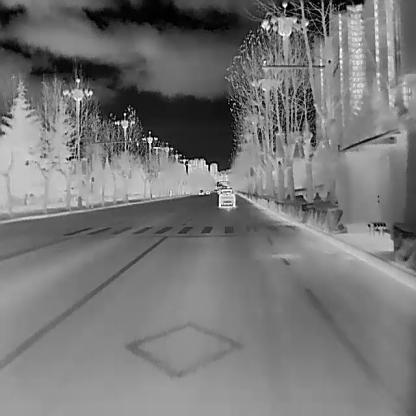car: (218, 189, 235, 207), (198, 189, 203, 195), (205, 190, 210, 195)
